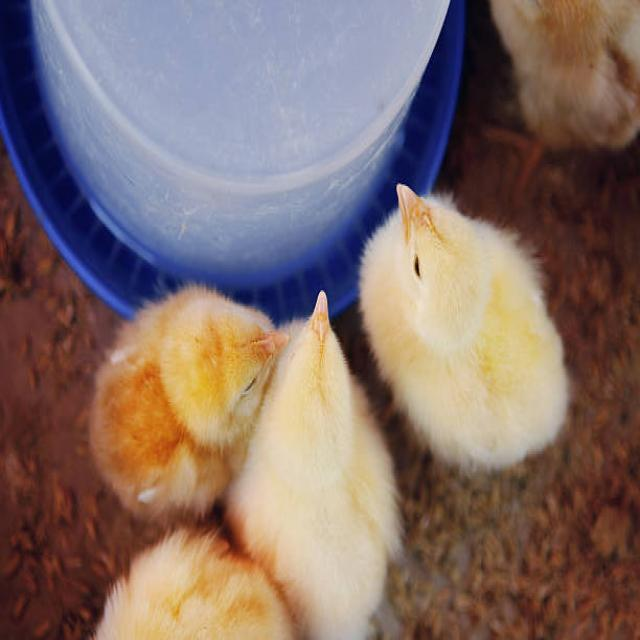poussin: (356, 179, 582, 479), (224, 284, 405, 640), (90, 288, 283, 526), (462, 0, 640, 202), (92, 539, 292, 640)
